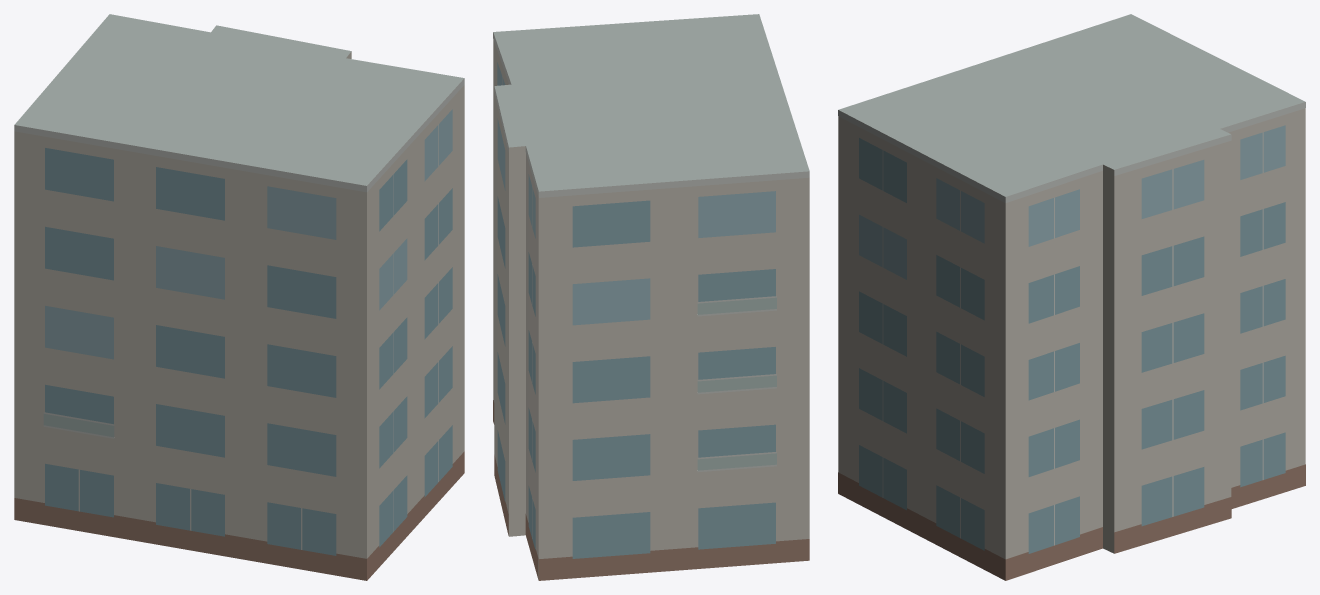
Rendered from survey-upis-32681257.glb.
3 views of the same model, side by side, from view 1: azimuth 30°, elevation 25°; view 2: azimuth 150°, elevation 25°; view 3: azimuth 270°, elevation 25° (orthographic). The views are drawn at different scales.
Visible parts, largest first — view 1: survey-upis-32681257.tmp; view 2: survey-upis-32681257.tmp; view 3: survey-upis-32681257.tmp.
Boxes of the visible parts, x1=… form: survey-upis-32681257.tmp: x1=14, y1=14, x2=464, y2=580; survey-upis-32681257.tmp: x1=493, y1=14, x2=809, y2=580; survey-upis-32681257.tmp: x1=838, y1=14, x2=1305, y2=580.
Bounding box in the file's own units: 15.24 × 14.9 × 16.45.
